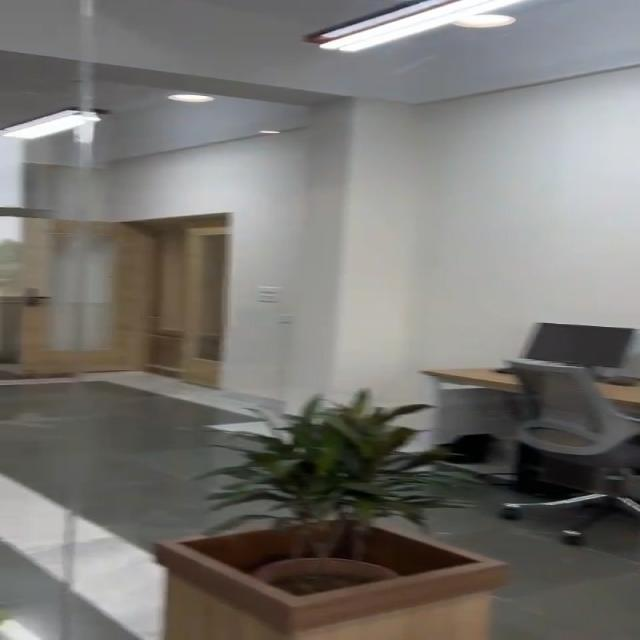door: (38, 224, 236, 376)
floor: (0, 388, 170, 640), (486, 554, 640, 640)
furniture: (171, 403, 486, 640), (478, 338, 640, 553)
wall: (239, 144, 640, 336), (0, 102, 272, 210)
